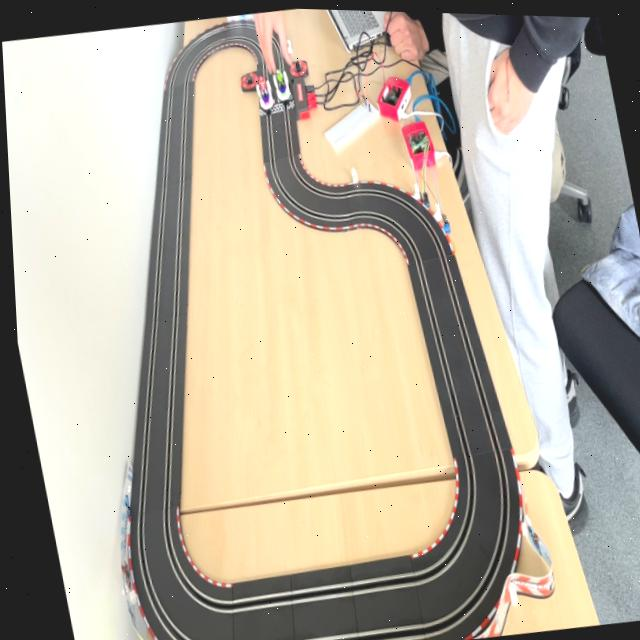mario: (254, 72, 274, 111)
yoshi: (272, 67, 293, 102)
